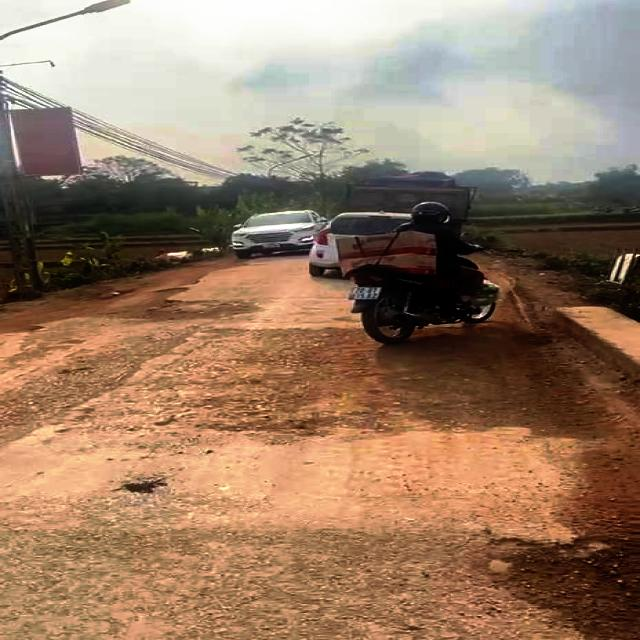pothole: (90, 284, 264, 325), (216, 408, 385, 442)
